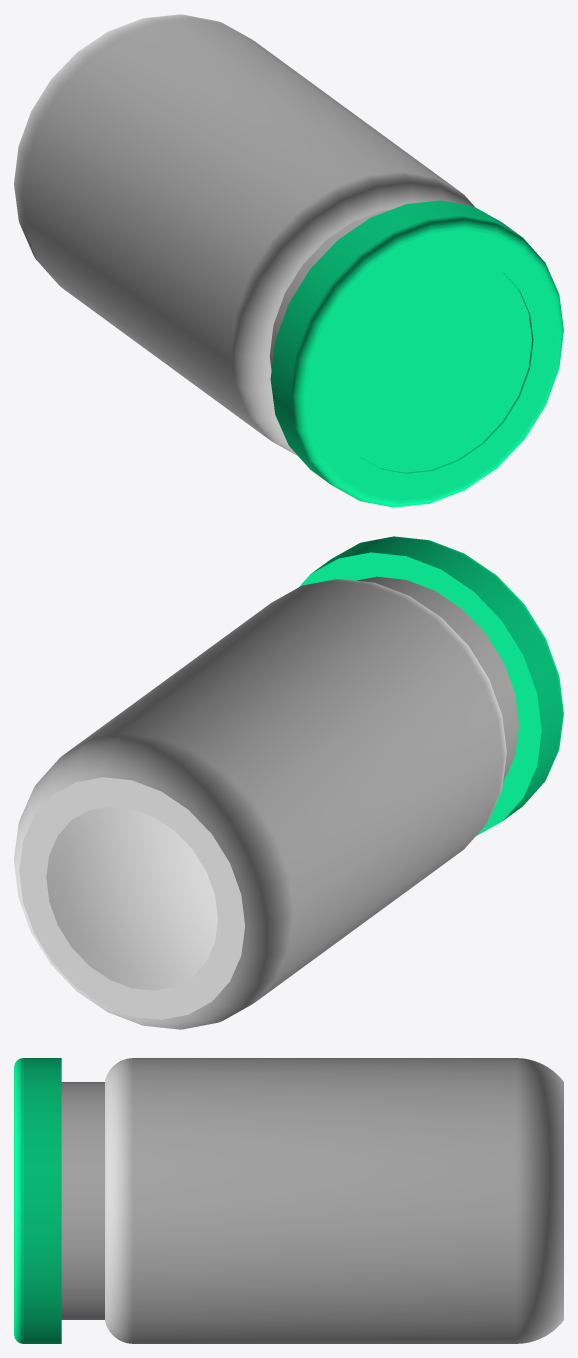
The model's file is model_scale.obj.
The picture shows the model from 3 angles, top to bottom: view 1: azimuth 30°, elevation 25°; view 2: azimuth 150°, elevation 25°; view 3: azimuth 270°, elevation 25°; orthographic projection. The views are drawn at different scales.
Parts seen in each view (by area): view 1: mesh16_mesh16-geometry, mesh1_mesh1-geometry; view 2: mesh16_mesh16-geometry, mesh1_mesh1-geometry; view 3: mesh16_mesh16-geometry, mesh1_mesh1-geometry.
Part boxes in pixels (left/top/right/bottom): mesh16_mesh16-geometry: left=14, top=14, right=474, bottom=455; mesh1_mesh1-geometry: left=270, top=200, right=563, bottom=507; mesh16_mesh16-geometry: left=14, top=576, right=518, bottom=1029; mesh1_mesh1-geometry: left=299, top=536, right=563, bottom=835; mesh16_mesh16-geometry: left=61, top=1058, right=563, bottom=1343; mesh1_mesh1-geometry: left=14, top=1058, right=61, bottom=1343.
Size of the model in its own units: 0.1065 by 0.1065 by 0.2041.
